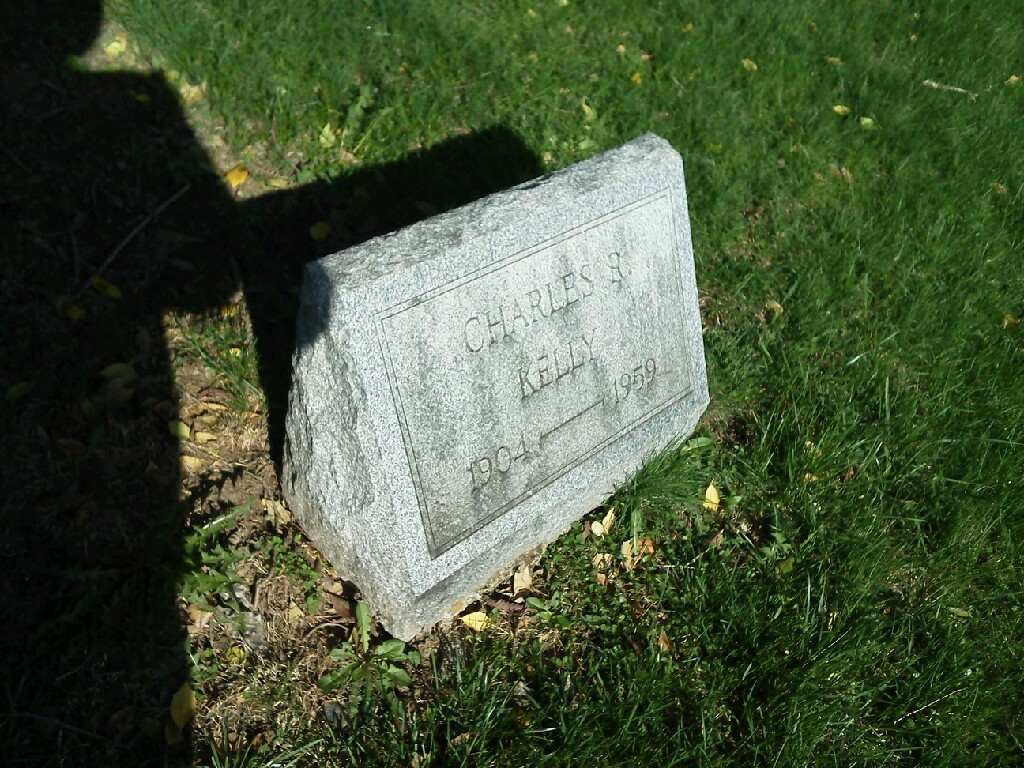slant: (281, 130, 712, 642)
